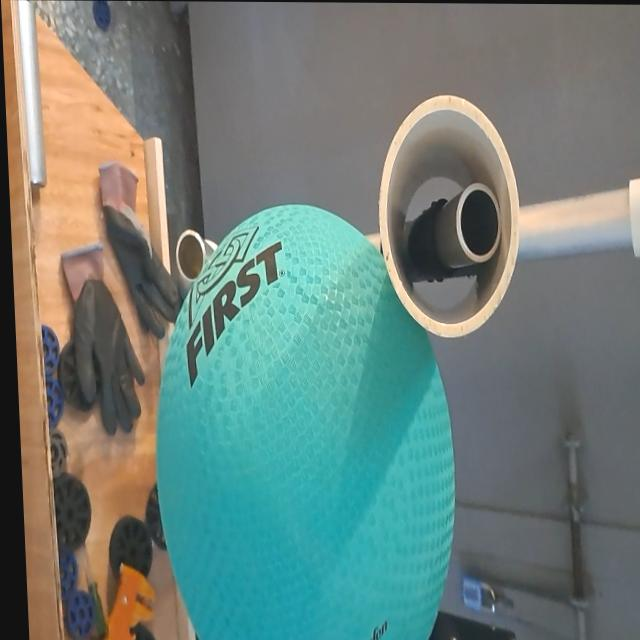ALGAE: (141, 198, 461, 640)
CORAL: (370, 84, 527, 345)
